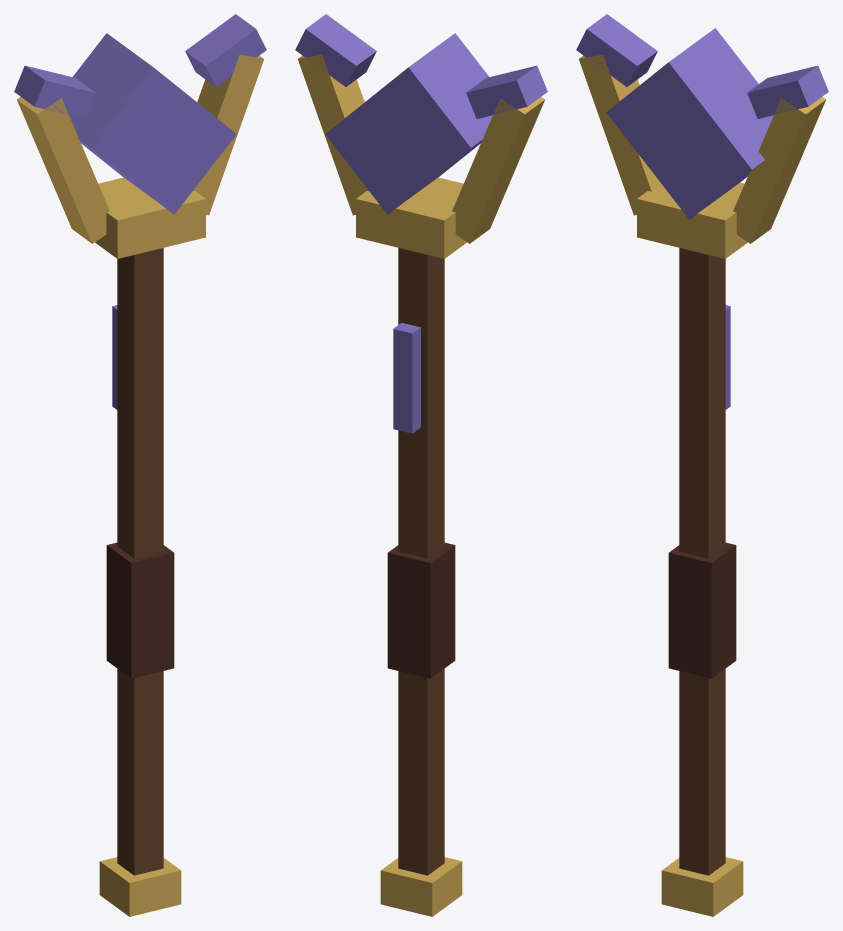
The model's file is mage_staff.glb.
3 renders of one model, left to right at view 1: azimuth 30°, elevation 25°; view 2: azimuth 150°, elevation 25°; view 3: azimuth 330°, elevation 25°, orthographic.
Visible parts, largest first — view 1: mage_staff; view 2: mage_staff; view 3: mage_staff.
Part boxes in pixels (<box>): mage_staff: <box>14,14,266,916</box>; mage_staff: <box>295,14,547,916</box>; mage_staff: <box>576,14,828,916</box>.
Bounding box in the file's own units: 1.58 × 5.53 × 0.55.
